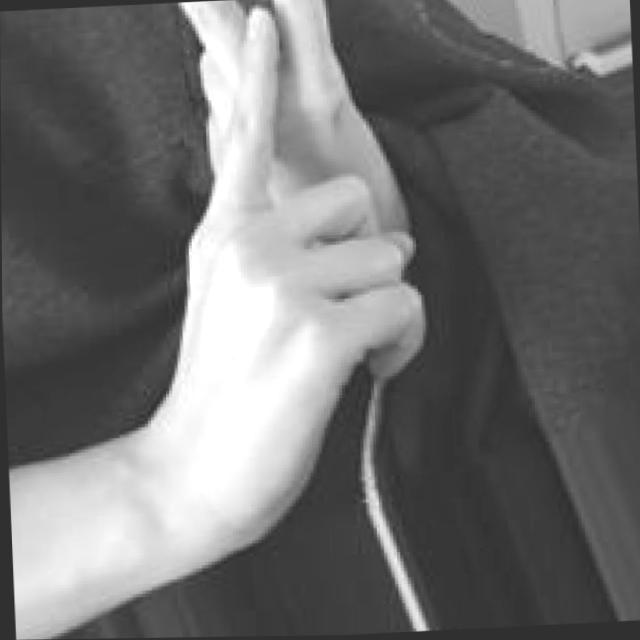Y: (139, 0, 435, 579)
